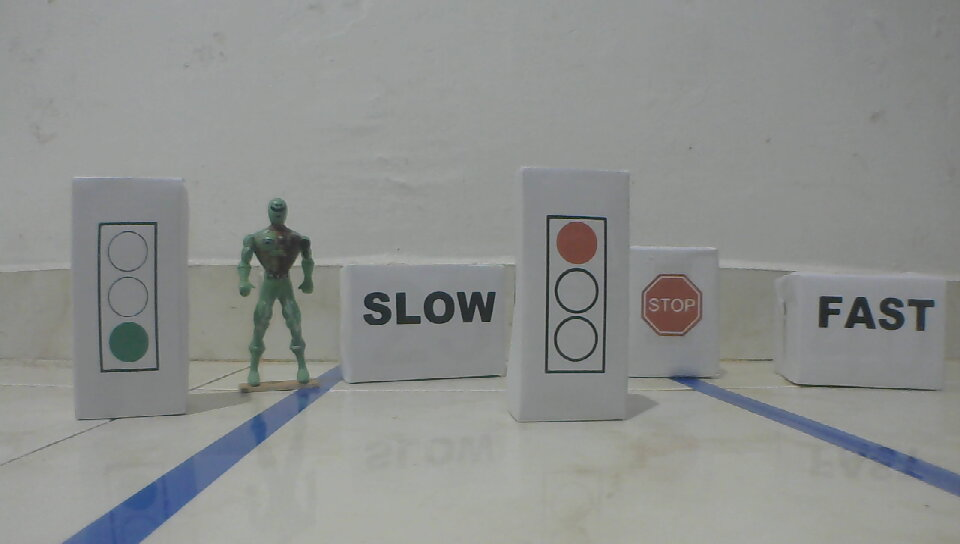Fast: (816, 292, 938, 333)
Green Traffic Light: (96, 220, 163, 375)
Person: (235, 195, 316, 389)
Red Traffic Light: (542, 214, 608, 378)
Slow: (361, 289, 500, 327)
Stop Sign: (638, 272, 705, 338)
